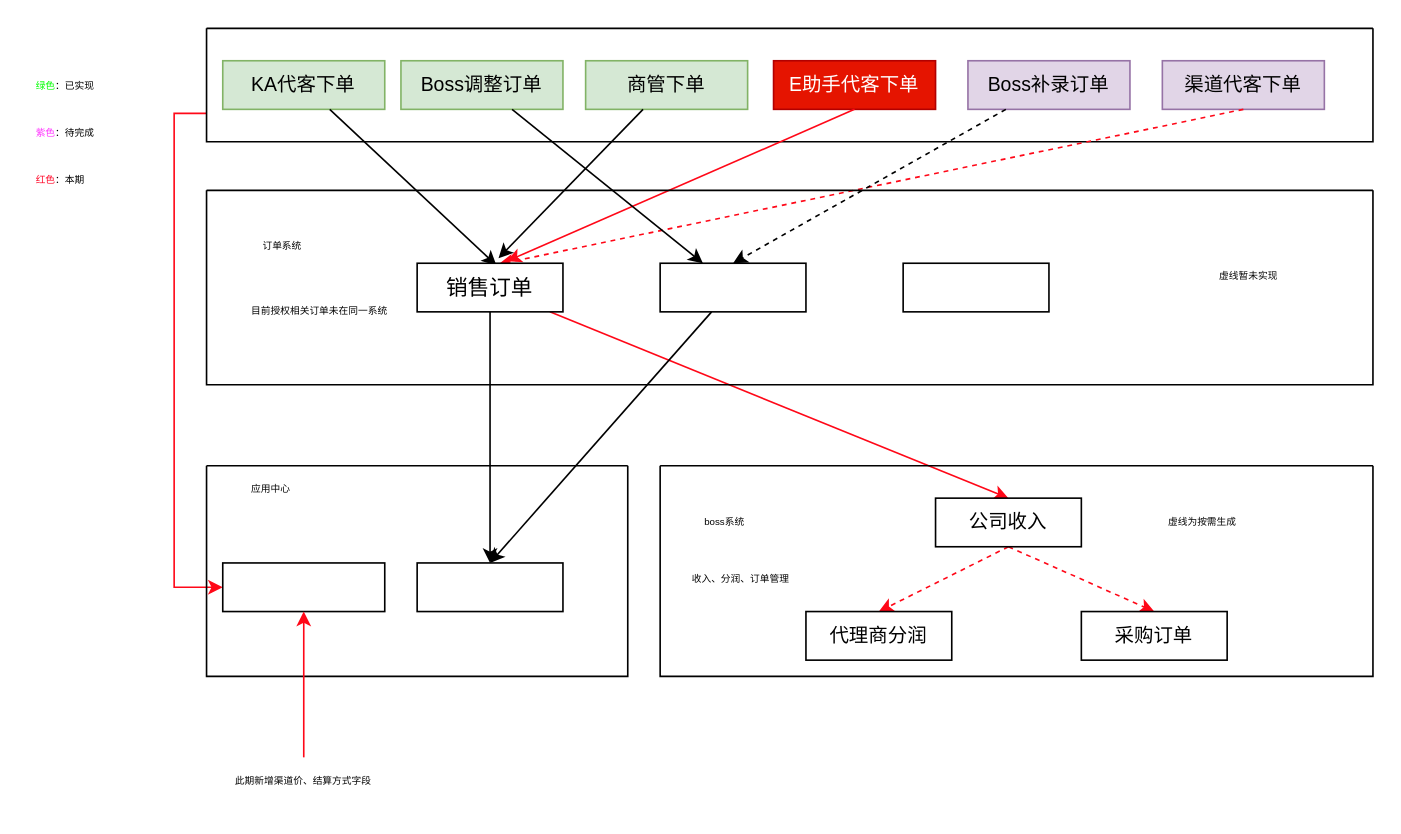
Image size: 1401x834. Some labels were removed from this diagram. The centre of each missing label's shape, as x and y in pixels:
"应用授权记录" belongs at pixel 489 586.
"应用管理" belongs at pixel 303 586.
"相关订单" belongs at pixel 732 287.
"订单明细项" belongs at pixel 975 287.
